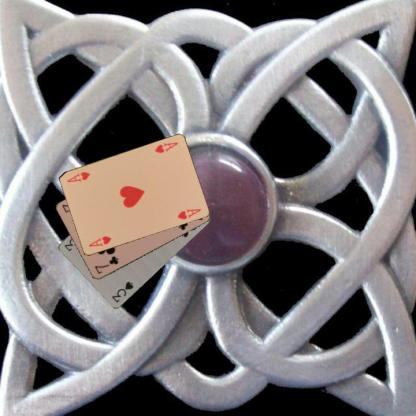3s: (109, 279, 135, 304)
7c: (92, 254, 119, 275)
Ah: (86, 233, 113, 248), (152, 140, 179, 155)
